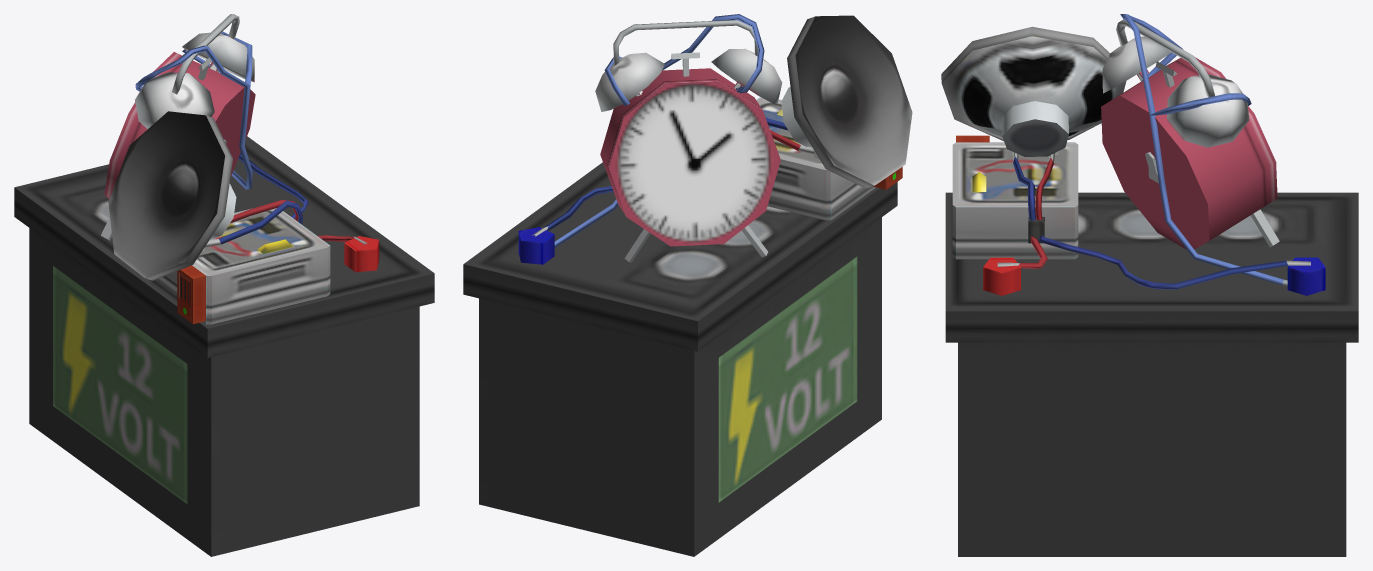
The model's file is BigNoiseTrapTimer_Mesh.fbx.
3 views of the same model, side by side, from view 1: azimuth 30°, elevation 25°; view 2: azimuth 150°, elevation 25°; view 3: azimuth 270°, elevation 25° (orthographic). The views are drawn at different scales.
Parts seen in each view (by area): view 1: BigNoiseTrapTimer; view 2: BigNoiseTrapTimer; view 3: BigNoiseTrapTimer.
Boxes of the visible parts, x1,y1,x2,y2 form: BigNoiseTrapTimer: (14,14,434,556); BigNoiseTrapTimer: (463,14,912,556); BigNoiseTrapTimer: (941,14,1358,556).
Bounding box in the file's own units: 37.56 × 59.42 × 48.36.
